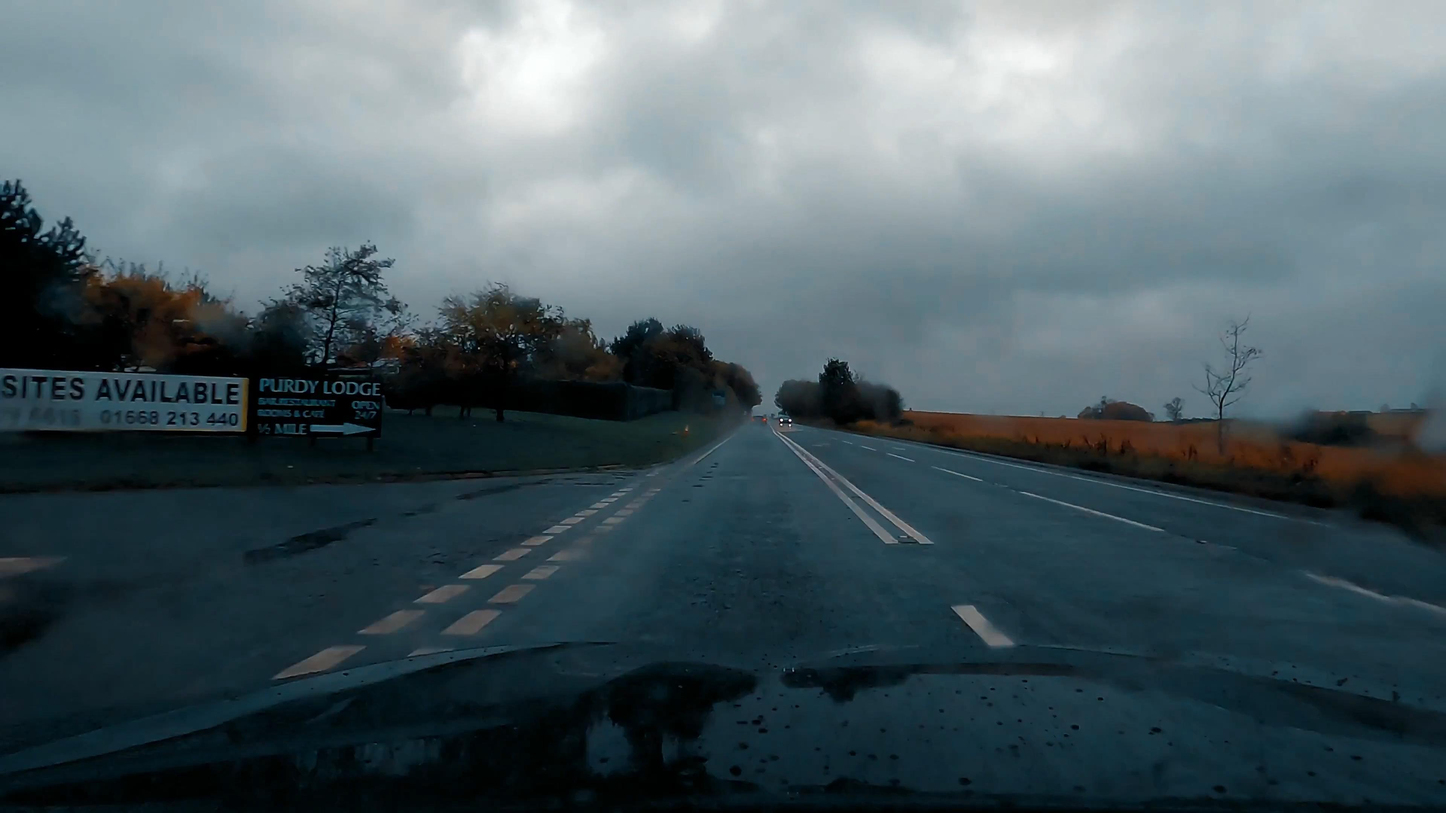wet: (0, 419, 1446, 687)
